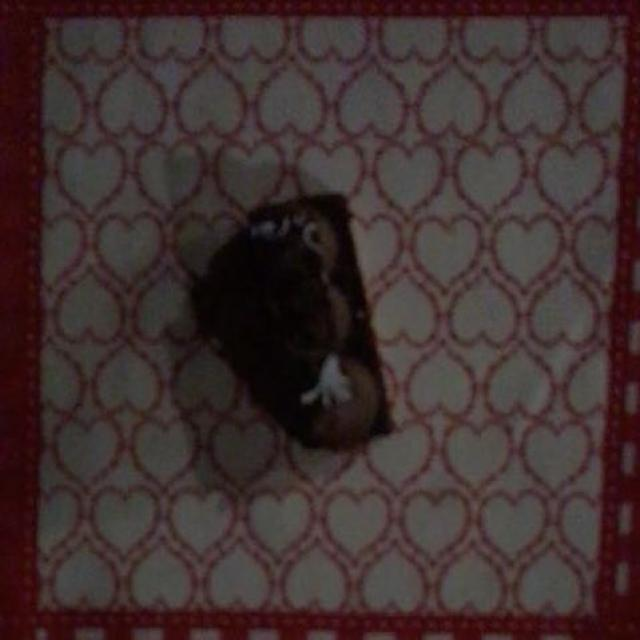cake: (190, 192, 392, 450)
